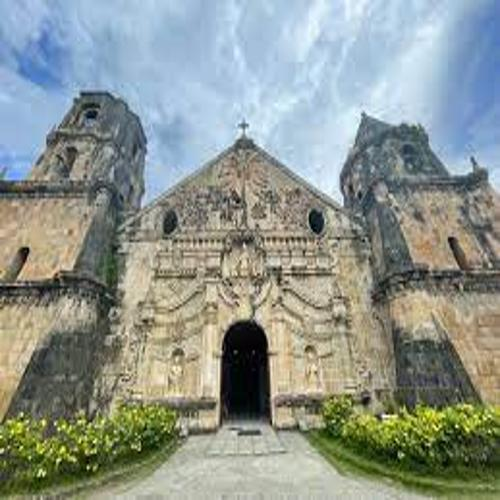Miagao Church: (2, 86, 500, 444)
